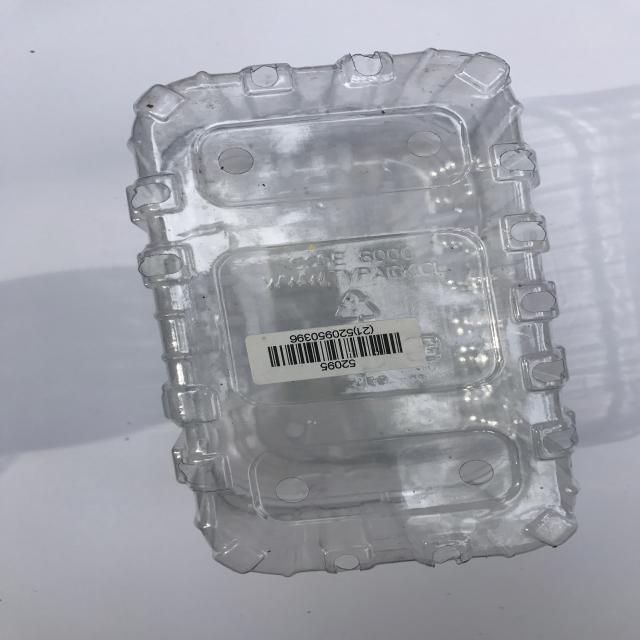Plastic: (67, 34, 607, 582)
